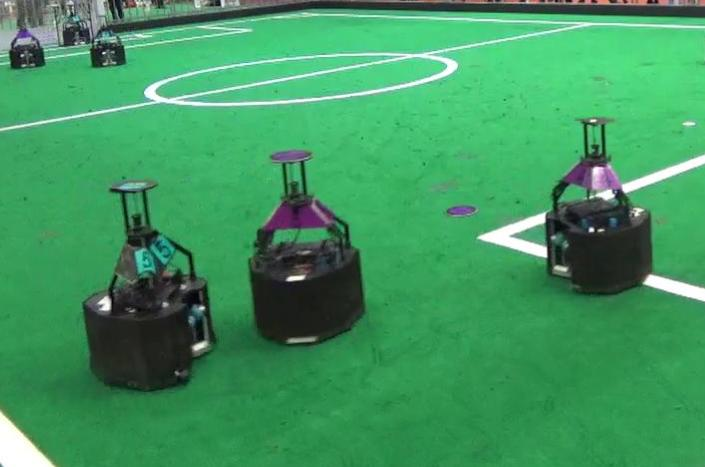robot: (74, 176, 225, 394), (241, 148, 373, 349), (540, 110, 658, 293), (86, 12, 130, 69), (5, 15, 47, 70)
